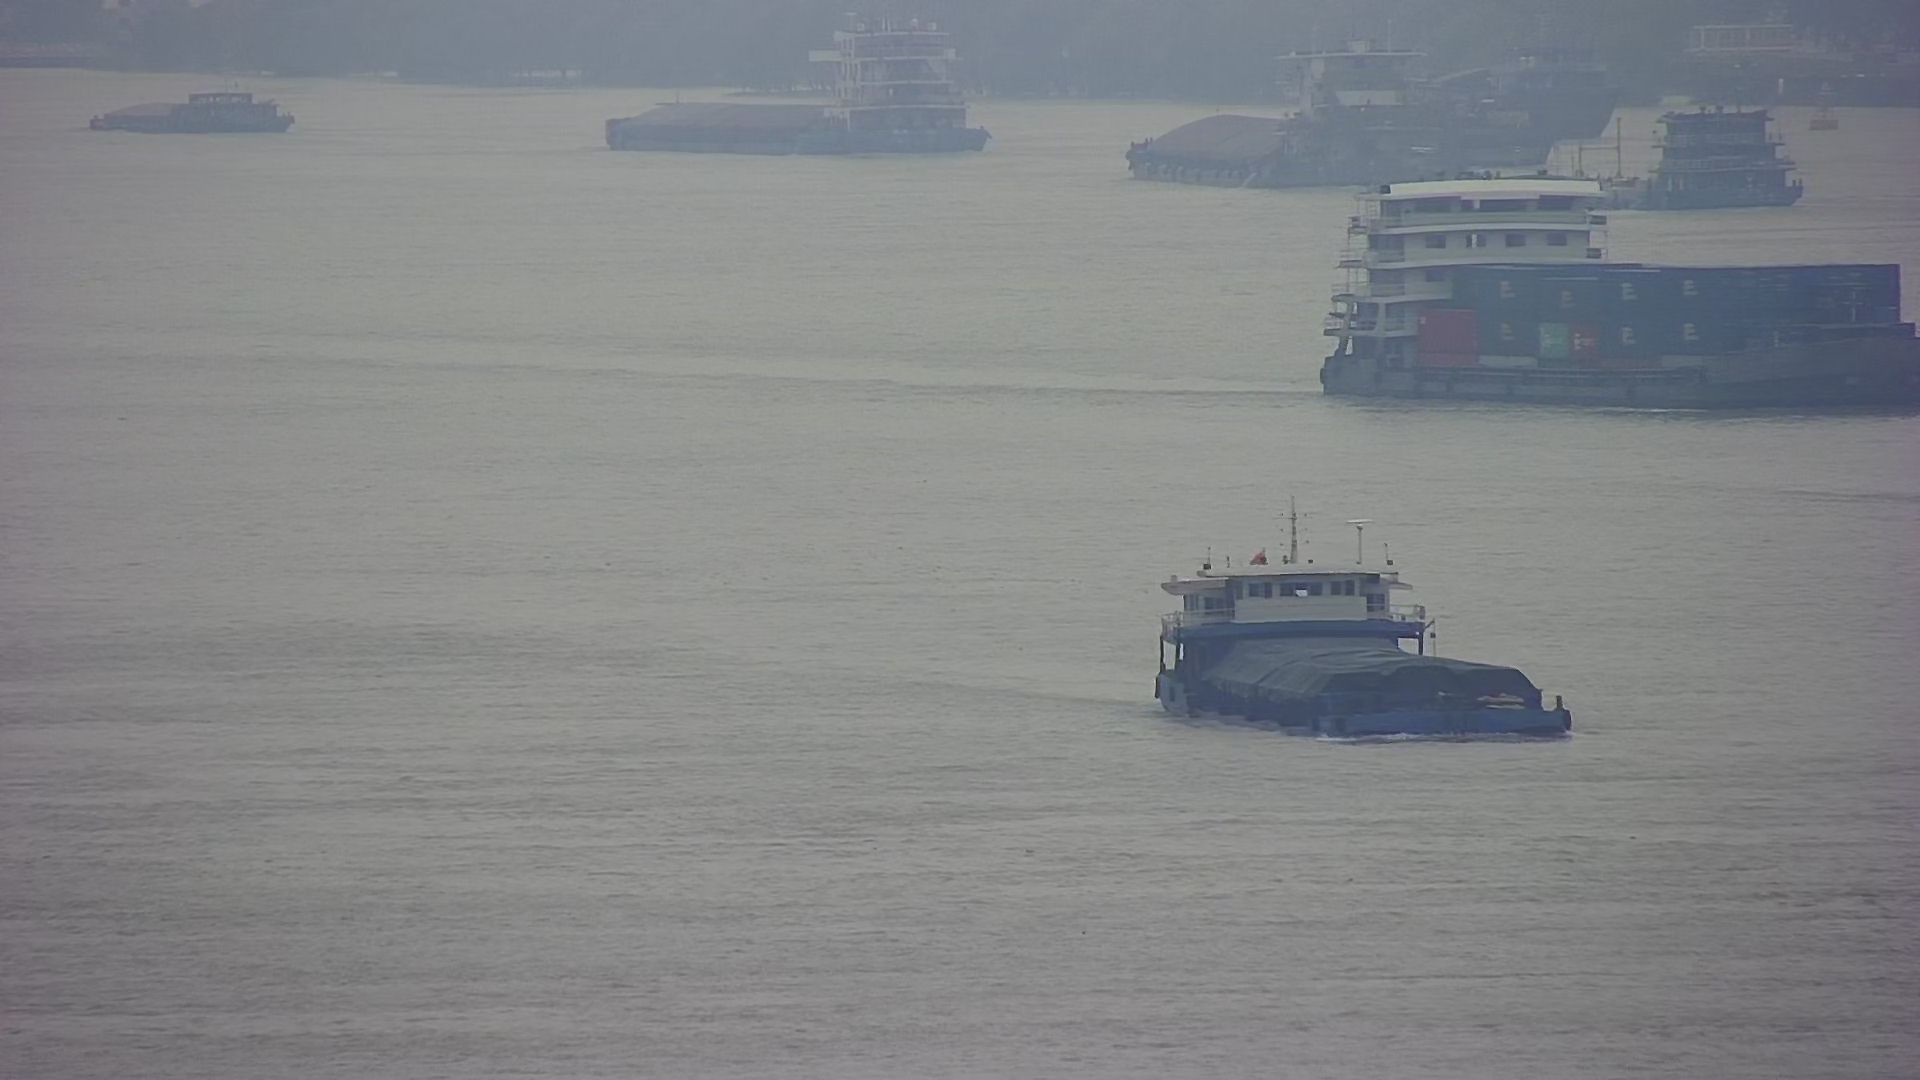ship: (1324, 171, 1920, 411), (1151, 498, 1571, 740), (1118, 38, 1548, 190), (603, 11, 990, 152), (1564, 100, 1803, 214), (87, 86, 294, 137)
